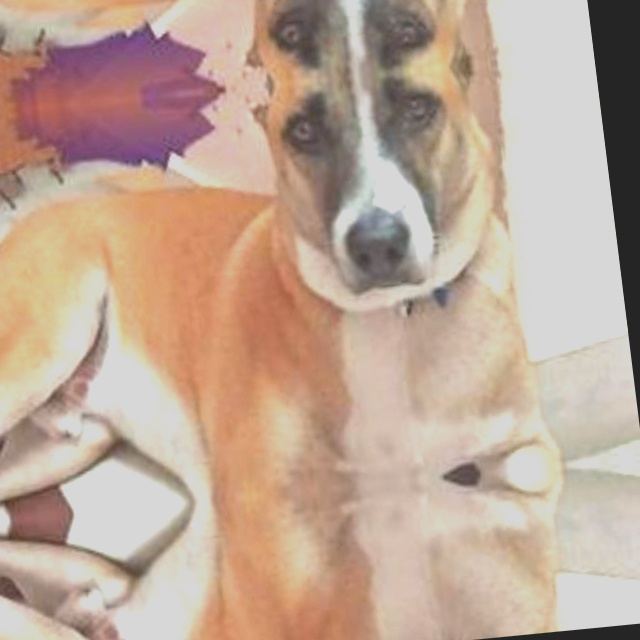dog: (174, 58, 575, 420), (234, 541, 605, 640), (154, 0, 535, 93)
